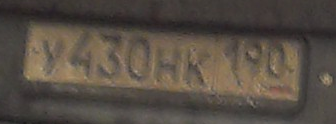character: (125, 32, 151, 84), (67, 30, 93, 78), (155, 45, 183, 86), (98, 31, 122, 78), (186, 46, 212, 89), (266, 39, 289, 82), (37, 37, 63, 74), (245, 39, 266, 80), (223, 38, 243, 80)
